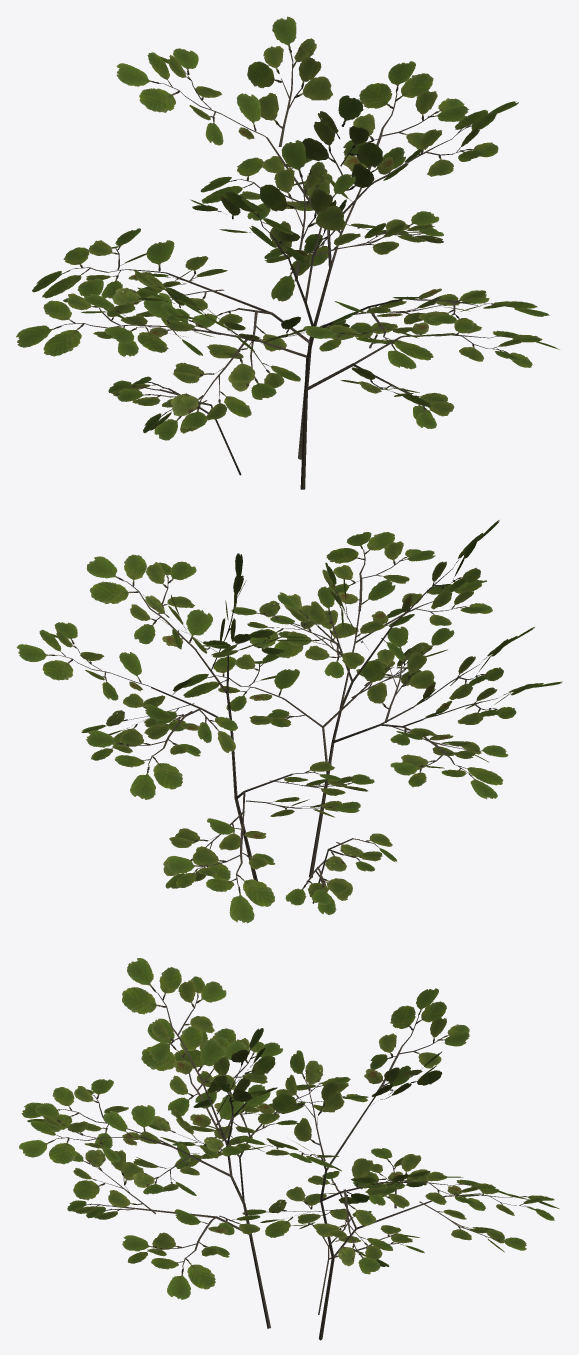
Rendered from SM_BlackAlder_Sapling_05_PP_LOD3.gltf.
The picture shows the model from 3 angles, top to bottom: view 1: azimuth 30°, elevation 25°; view 2: azimuth 150°, elevation 25°; view 3: azimuth 270°, elevation 25°; orthographic projection. The views are drawn at different scales.
Visible parts, largest first — view 1: SM_BlackAlder_Sapling_05_PP; view 2: SM_BlackAlder_Sapling_05_PP; view 3: SM_BlackAlder_Sapling_05_PP.
Boxes of the visible parts, x1,y1,x2,y2 form: SM_BlackAlder_Sapling_05_PP: (16,16,559,489); SM_BlackAlder_Sapling_05_PP: (16,520,562,923); SM_BlackAlder_Sapling_05_PP: (19,958,559,1340).
Size of the model in its own units: 1.37 by 1.03 by 1.62.
Materials: 1 (1 with a texture image).
